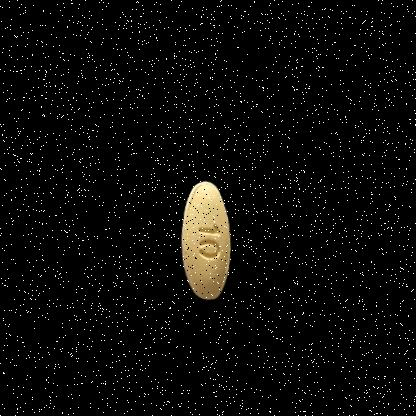tovast10: (155, 164, 251, 316)
